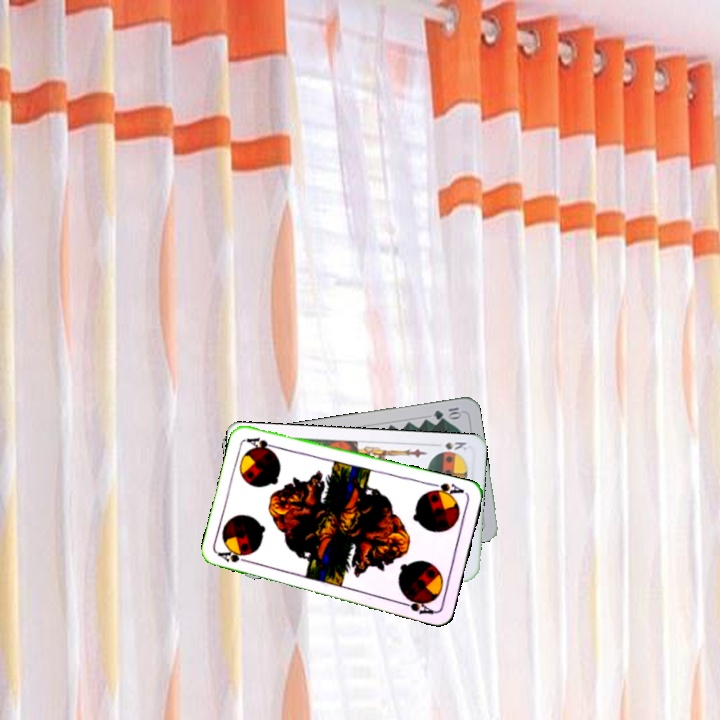G10: (429, 403, 464, 422)
SA: (426, 479, 466, 501), (215, 547, 255, 566)
SK: (433, 438, 469, 456)
